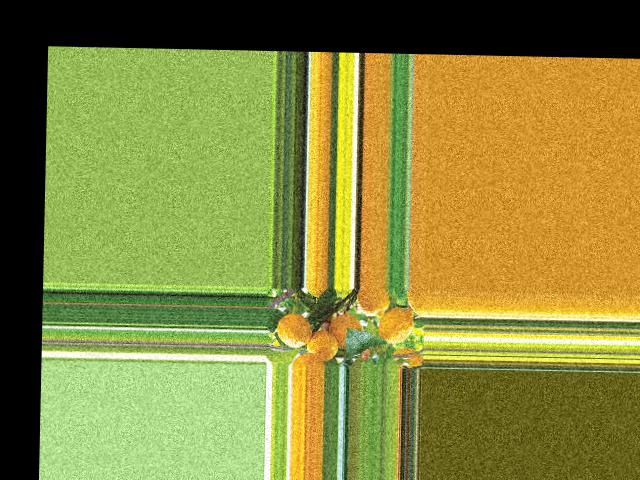lemon: (273, 315, 314, 351)
